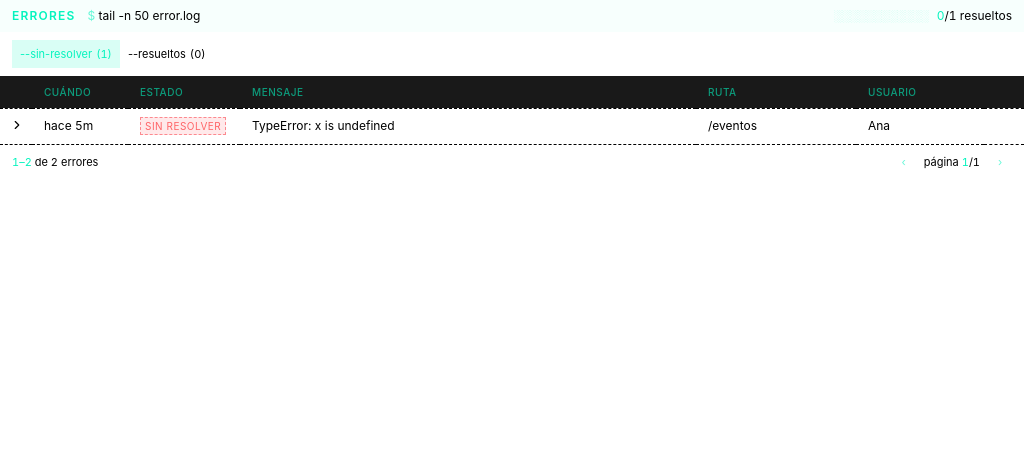
Test: ErrorsClient › expands a row with all its details and collapses it again
Click the text "TypeError: x is undefined".
click(323, 126)  # box 252,118 -> 395,133
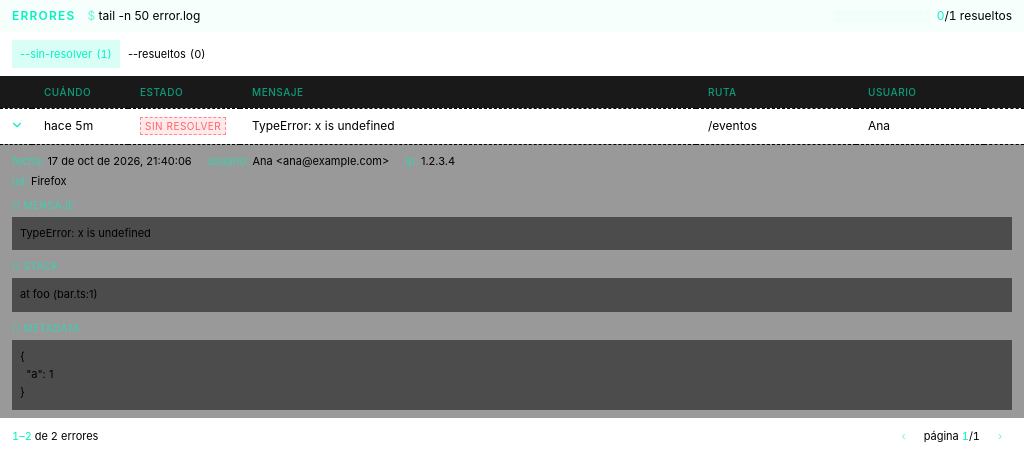
Check: the text "at foo (bar.ts:1)" is shown, box 12,278 -> 1012,312
Check: the text "{ \"a\": 1 }" is shown, box 12,340 -> 1012,410
Check: the text "usuario: Ana <ana@example.com>" is shown, box 208,152 -> 389,168
Click the button named "Ocultar detalles".
click(17, 125)  # box 8,116 -> 26,134
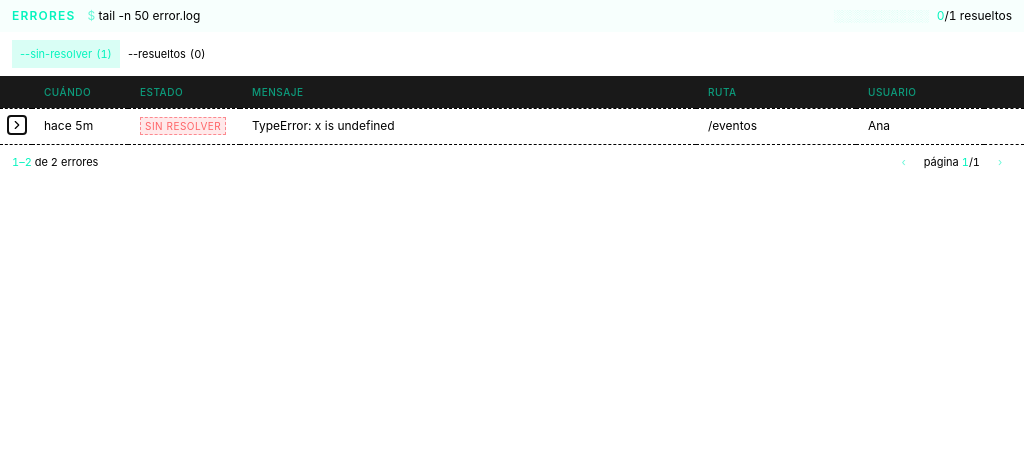
Check: the row with id "error-details-e1" is gone
